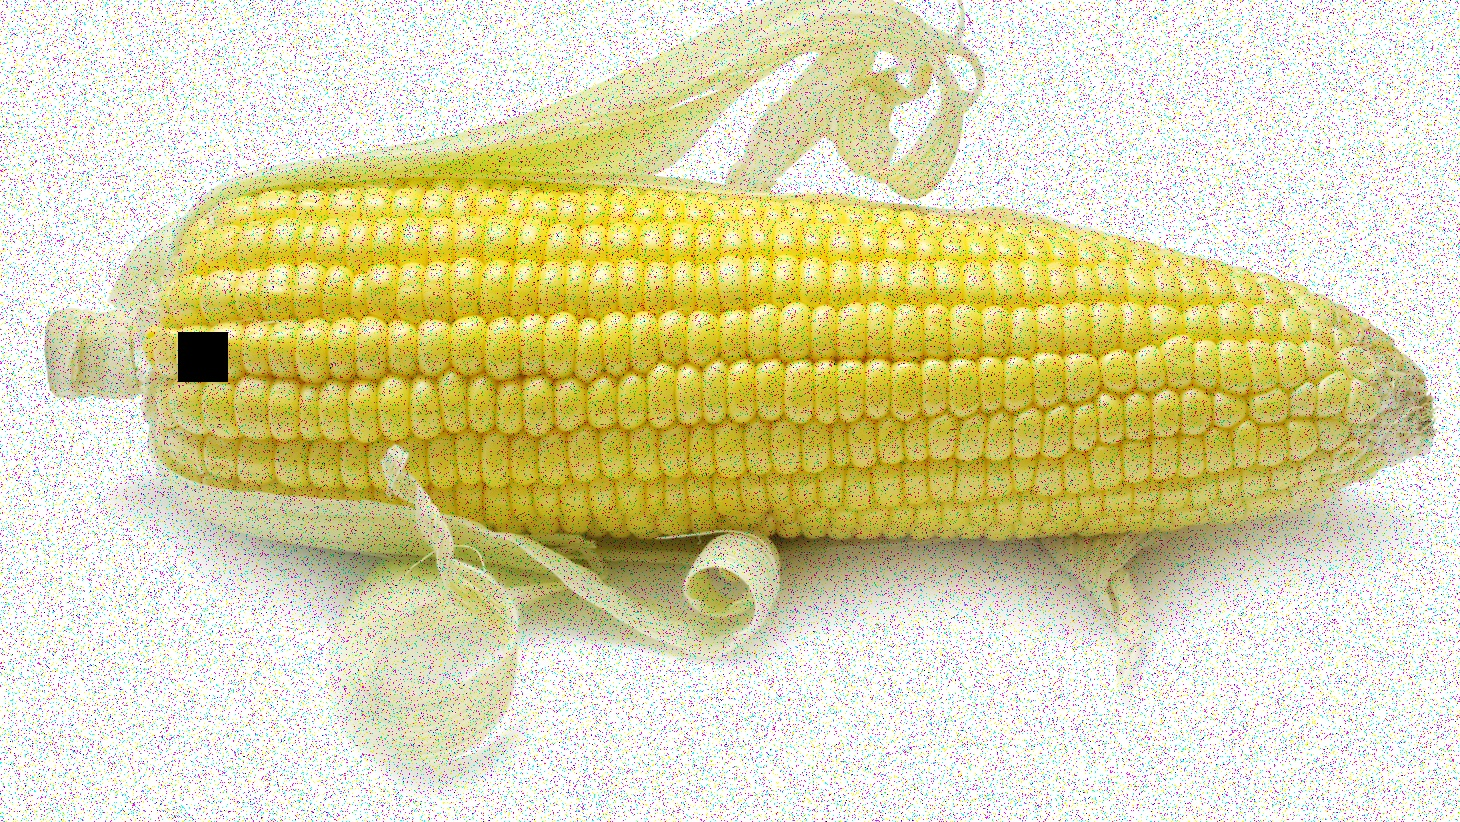corn: (42, 84, 1454, 587)
